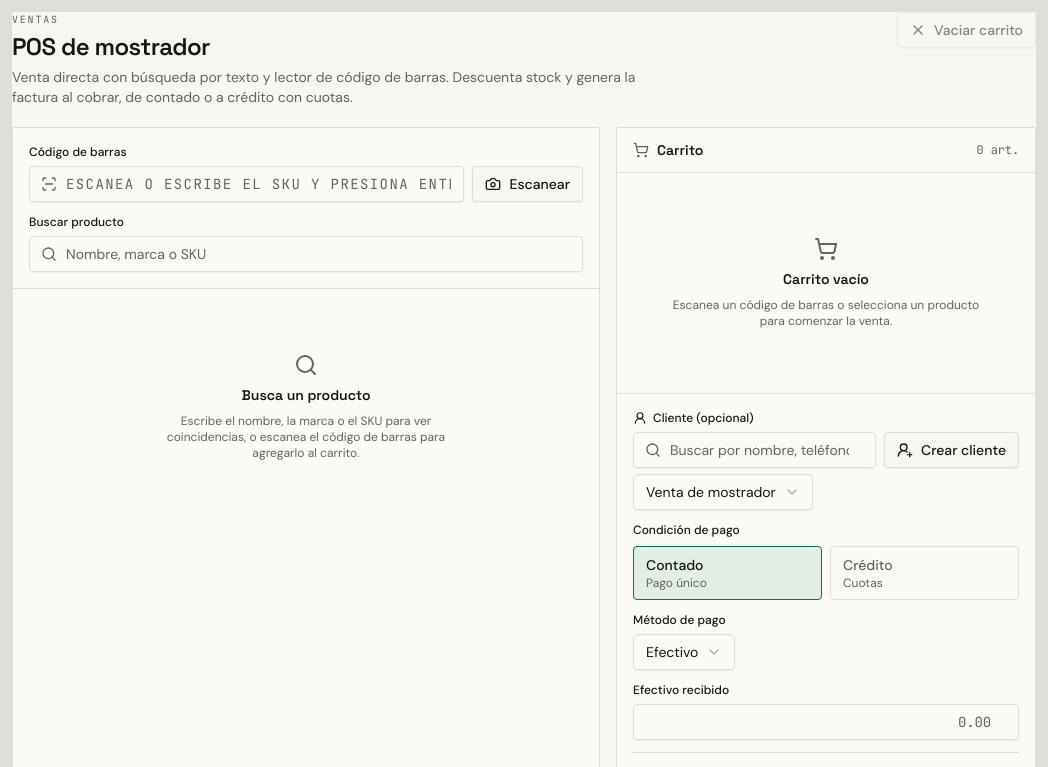
Test: PosPage customer search (cover) › keeps the product search returning matches and its no-results message
Type "balata" into the field with test id "pos.search_input" at {"x": 306, "y": 254}, box [29,236,583,272]
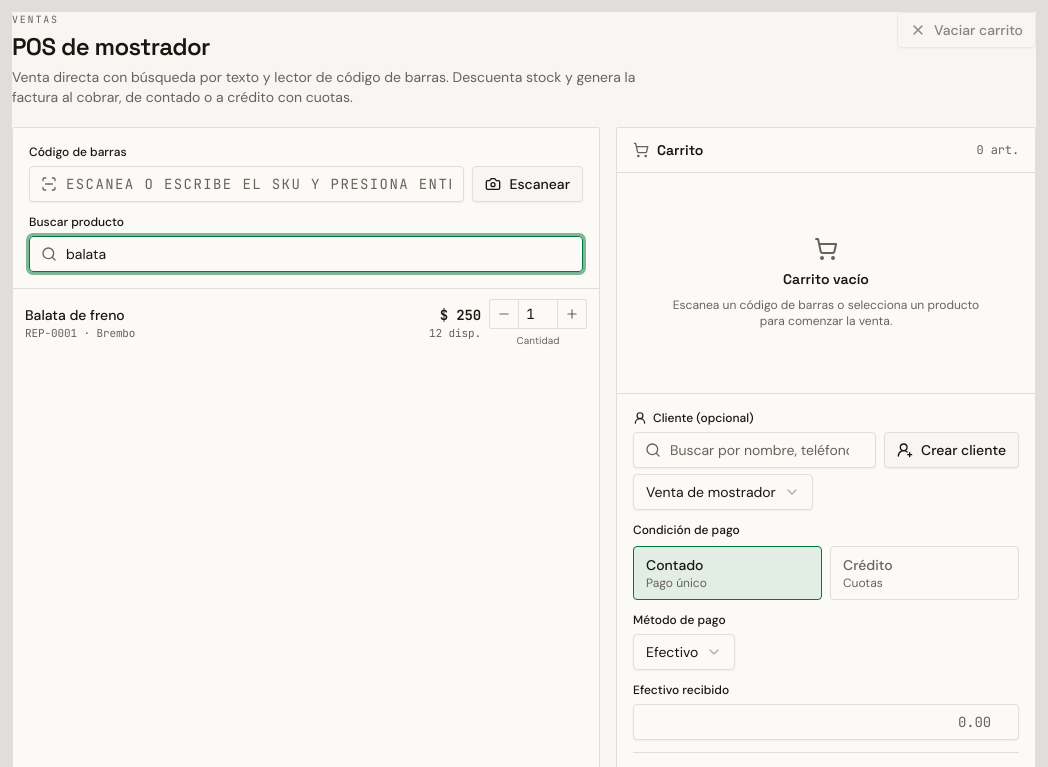
Expected: the text "Balata de freno" is shown, [25,306,125,324]
Replace the text in the field with test id "pos.search_input" with "zzz" at {"x": 306, "y": 254}, box [29,236,583,272]
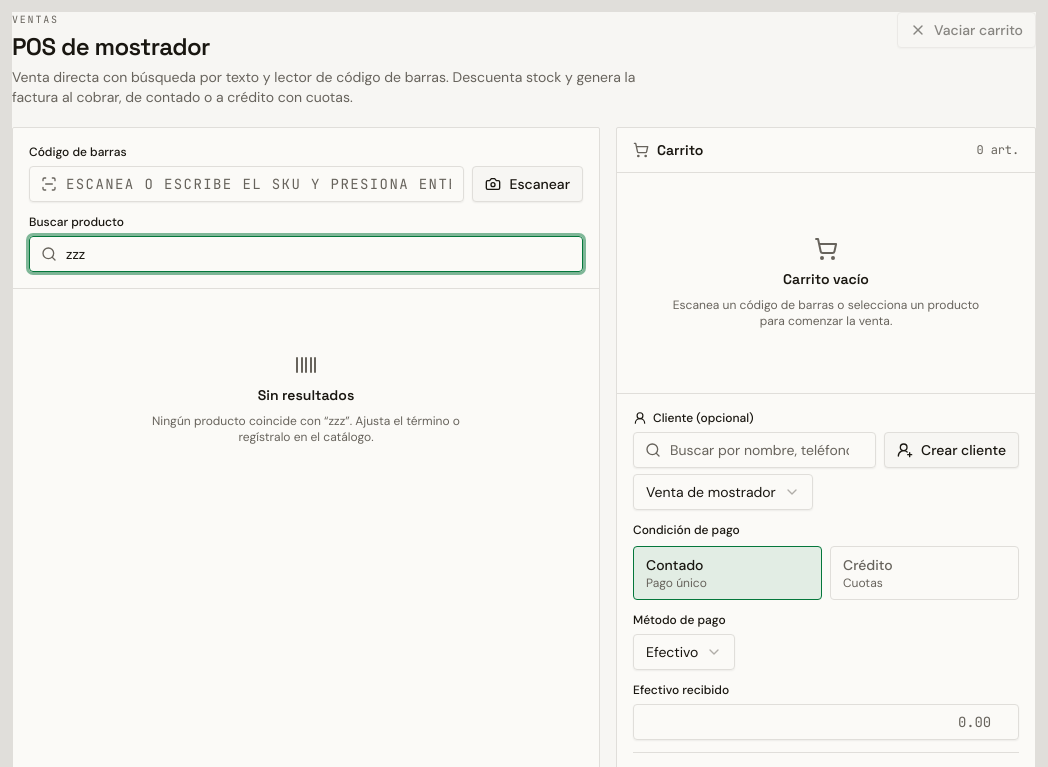
Expected: the element with test id "pos.empty_state" shows "Sin resultados", [258,386,354,404]
Expected: the element with test id "pos.empty_state" shows "zzz", [152,413,460,445]
